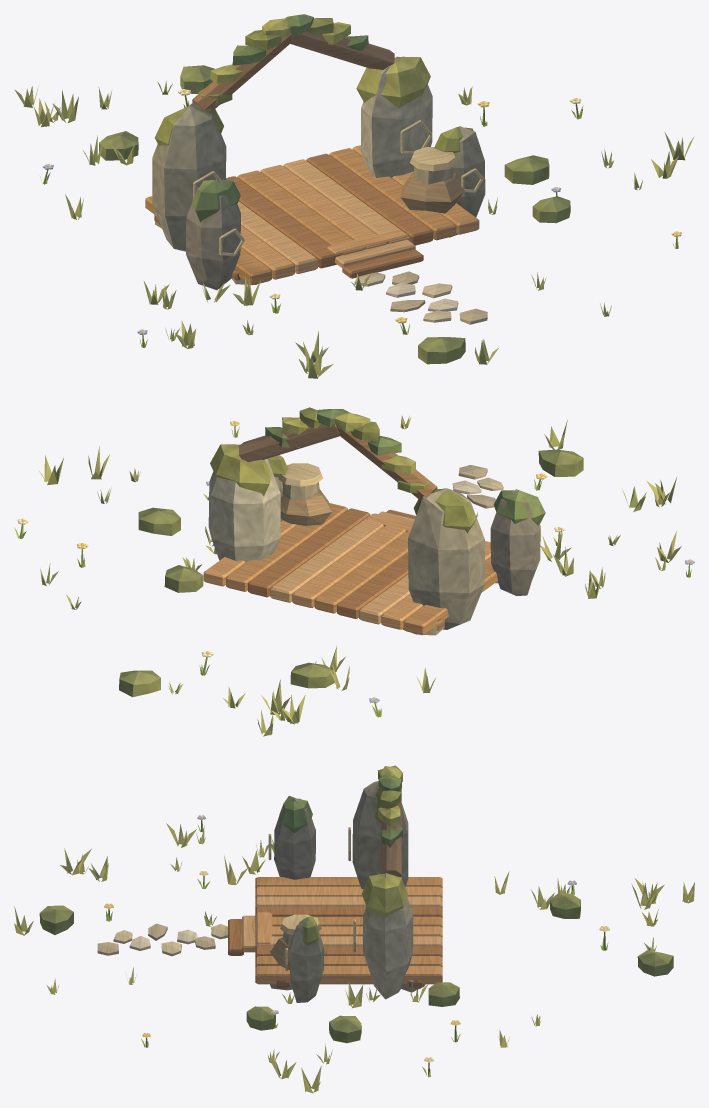
File: watch_fen.glb
3 renders of one model, top to bottom at view 1: azimuth 30°, elevation 25°; view 2: azimuth 150°, elevation 25°; view 3: azimuth 270°, elevation 25°, orthographic. The views are drawn at different scales.
Visible parts, largest first — view 1: Wegwacht · fen; view 2: Wegwacht · fen; view 3: Wegwacht · fen.
Boxes of the visible parts, <box> form: Wegwacht · fen: <box>14,14,694,378</box>; Wegwacht · fen: <box>14,407,694,736</box>; Wegwacht · fen: <box>14,765,694,1093</box>.
Size of the model in its own units: 9.34 by 3.03 by 10.18.
Materials: 4 (3 with a texture image).
